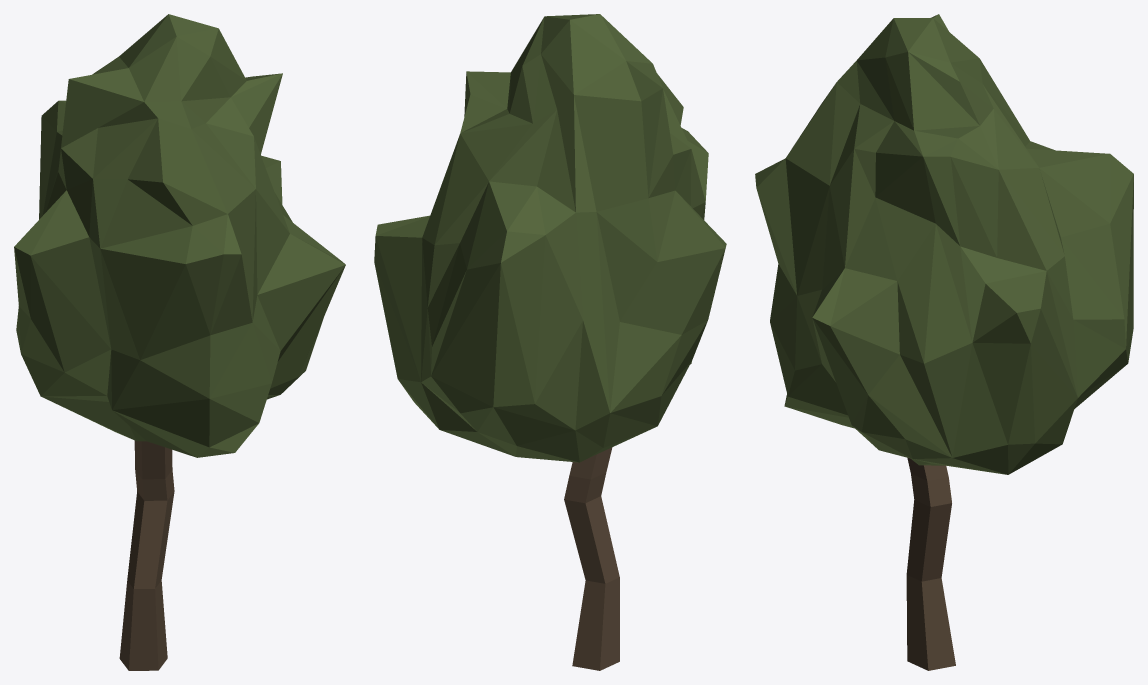
The model's file is Tree_31.gltf.
The picture shows the model from 3 angles, left to right: view 1: azimuth 30°, elevation 25°; view 2: azimuth 150°, elevation 25°; view 3: azimuth 270°, elevation 25°; orthographic projection. The views are drawn at different scales.
Parts seen in each view (by area): view 1: Tree_31; view 2: Tree_31; view 3: Tree_31.
Part boxes in pixels (x1,y1,x2,y2): Tree_31: (14, 14, 345, 670); Tree_31: (374, 14, 726, 670); Tree_31: (755, 14, 1133, 670).
Bounding box in the file's own units: 0.5388 × 1.07 × 0.5603.
Materials: 1 (1 with a texture image).
